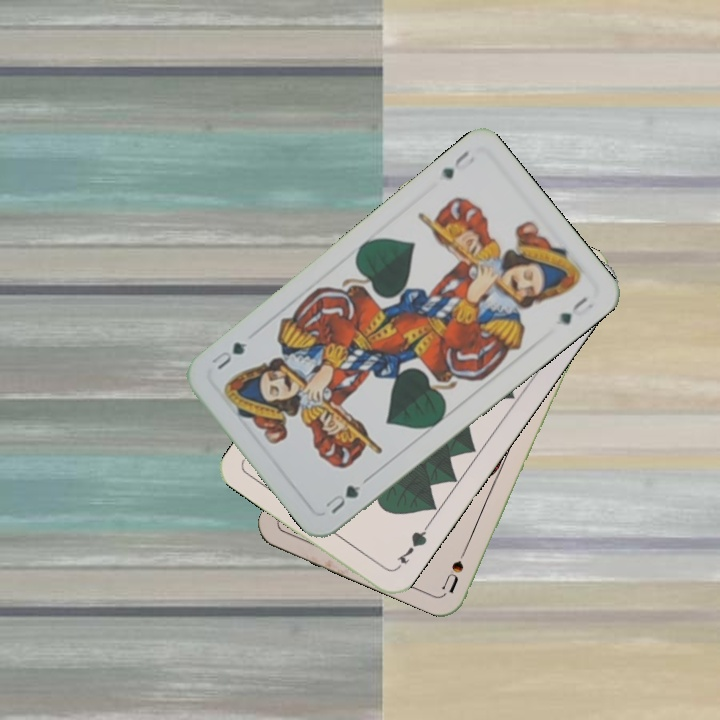G7: (391, 521, 431, 573)
GU: (320, 481, 364, 517), (436, 146, 475, 182)
SU: (439, 537, 473, 595)
